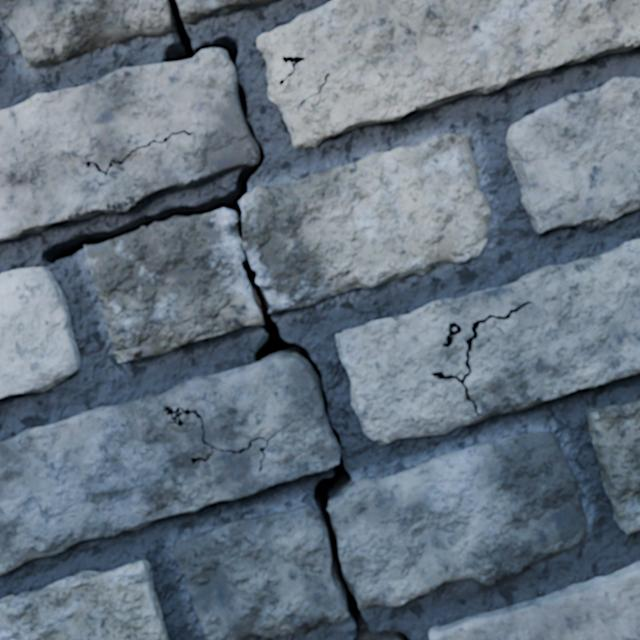broken_brick: (84, 133, 490, 362), (328, 431, 586, 609), (173, 504, 349, 639), (0, 0, 173, 68), (177, 0, 273, 23)
crack: (0, 246, 408, 639), (0, 0, 264, 264), (335, 239, 639, 444), (257, 0, 639, 147), (506, 77, 639, 234), (428, 561, 639, 639), (0, 560, 168, 639), (0, 267, 80, 399), (585, 398, 639, 534), (163, 342, 187, 350), (393, 478, 413, 485)
